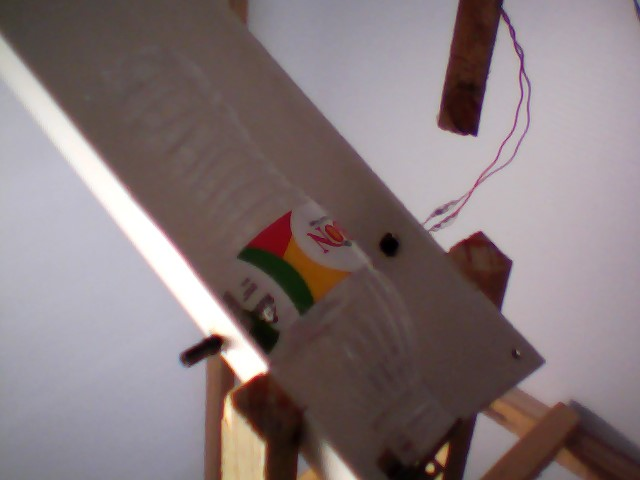plastico: (70, 32, 460, 462)
